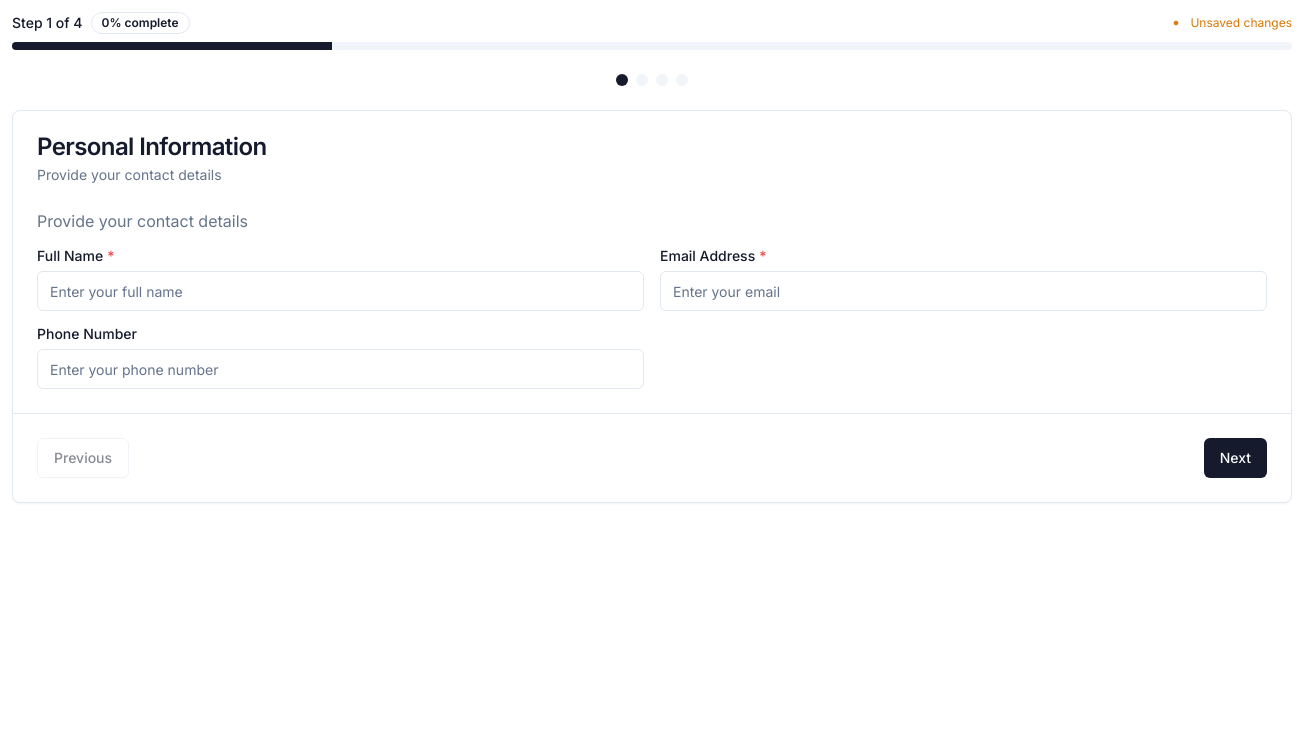
Scenario: DisclosureForm (Form Renderer) › validation › should validate required fields on submit
Note: Try to go to next step without filling required fields
What coordinates should you click on to do the following:
click the button "Next"
I would click on:
 (1235, 458)
Its box is [1204,438,1267,478].
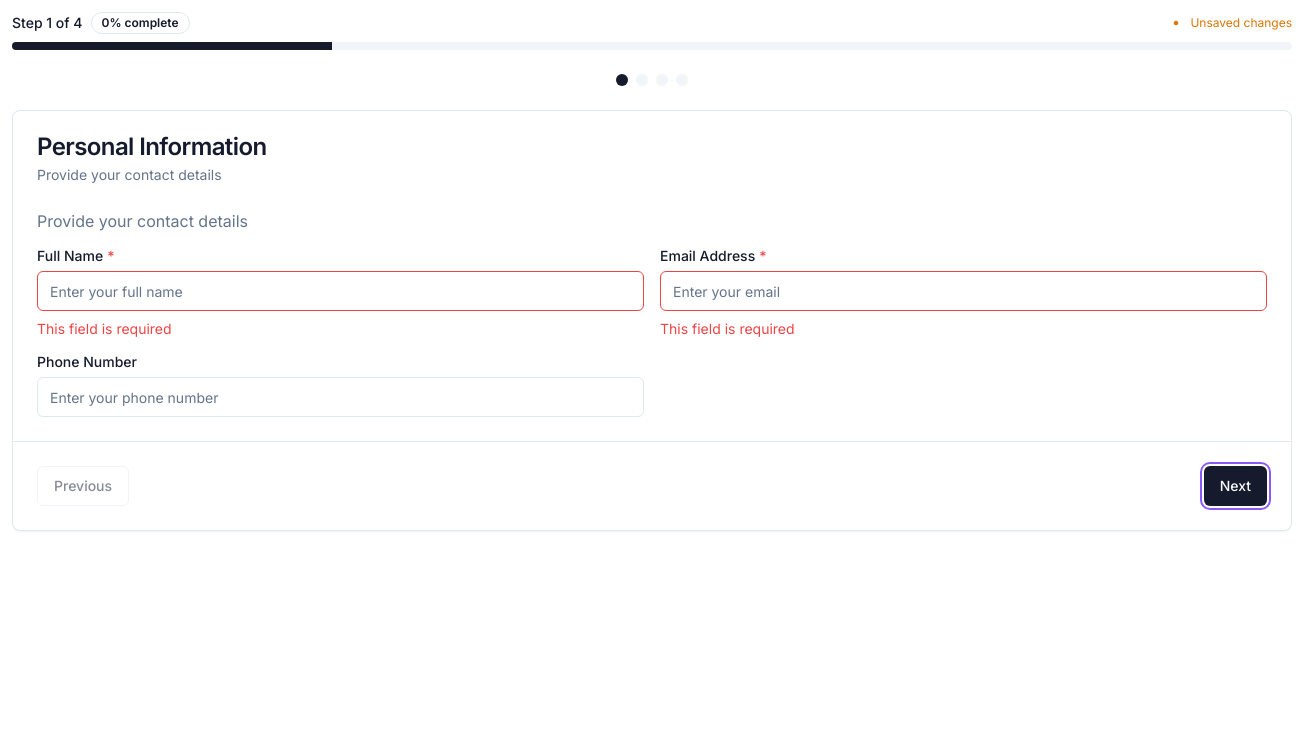
Now the text "This field is required" below "Full Name" is shown, box [37,320,172,337]
